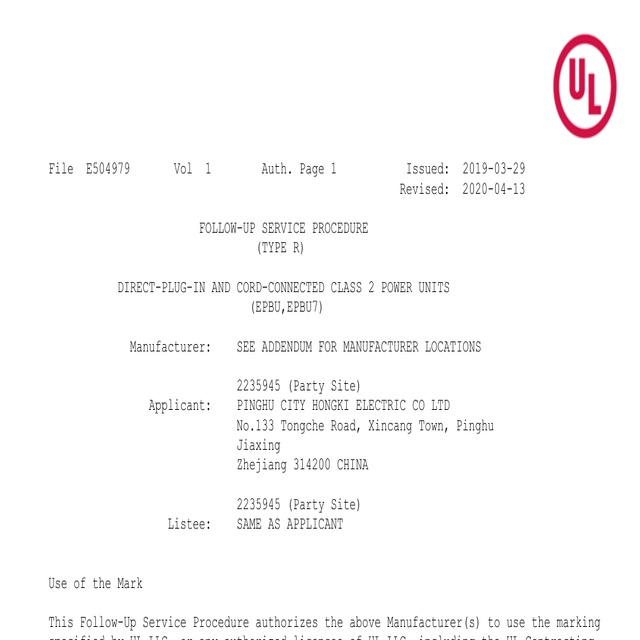ul: (553, 33, 618, 138)
